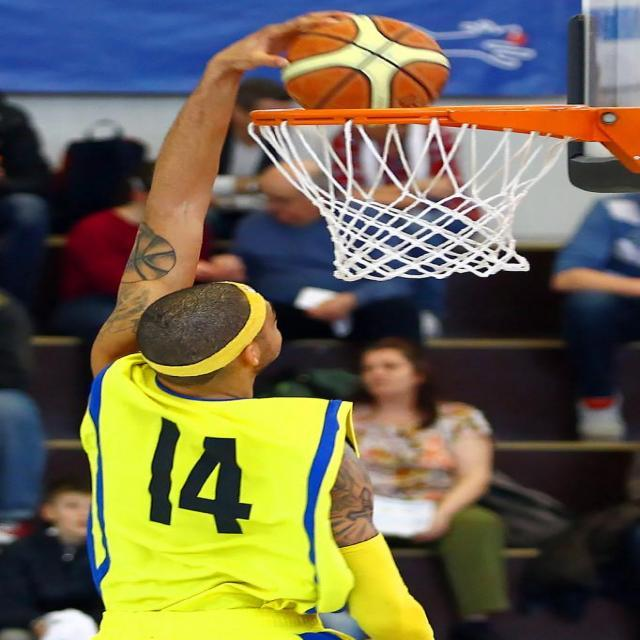rim: (278, 14, 446, 114)
